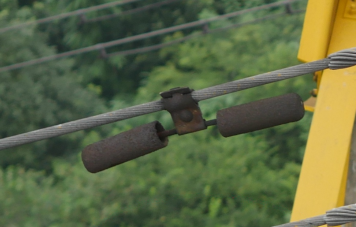damper: (77, 82, 306, 176)
